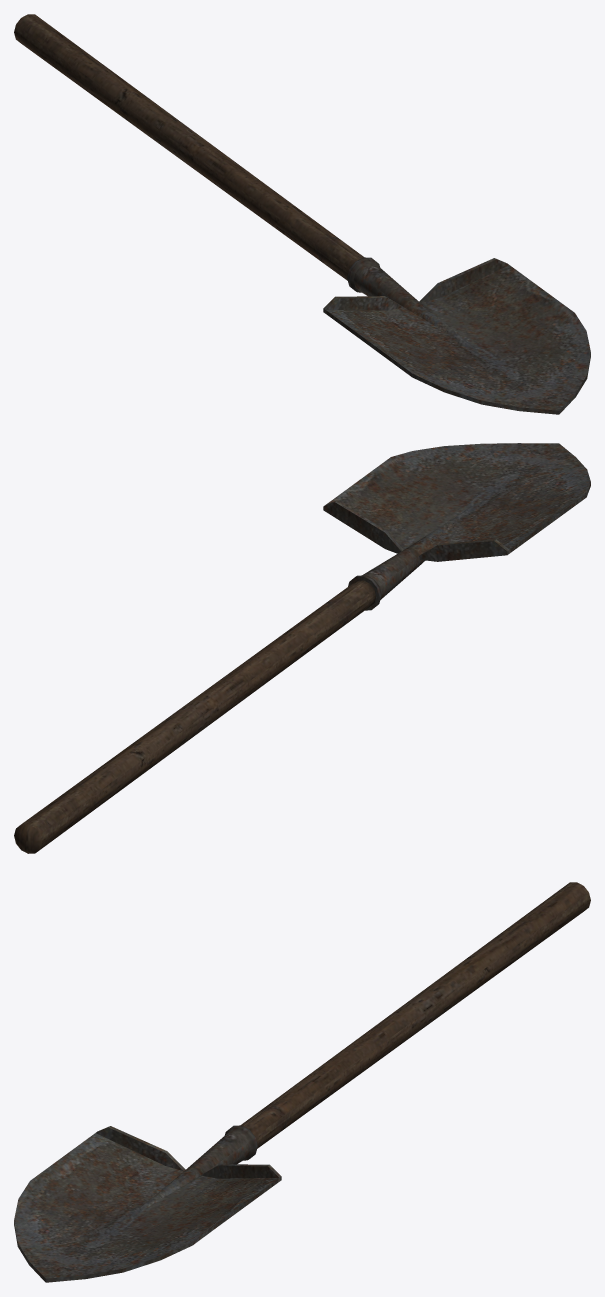
The model's file is shovel_mx_1.obj.
3 views of the same model, one above another, from view 1: azimuth 30°, elevation 25°; view 2: azimuth 150°, elevation 25°; view 3: azimuth 330°, elevation 25° (orthographic).
Visible parts, largest first — view 1: shovel_mx_1; view 2: shovel_mx_1; view 3: shovel_mx_1.
Part boxes in pixels (left/top/right/bottom): shovel_mx_1: left=14, top=14, right=590, bottom=414; shovel_mx_1: left=14, top=443, right=590, bottom=853; shovel_mx_1: left=14, top=882, right=590, bottom=1282.
Size of the model in its own units: 0.39 by 0.1044 by 1.96.
